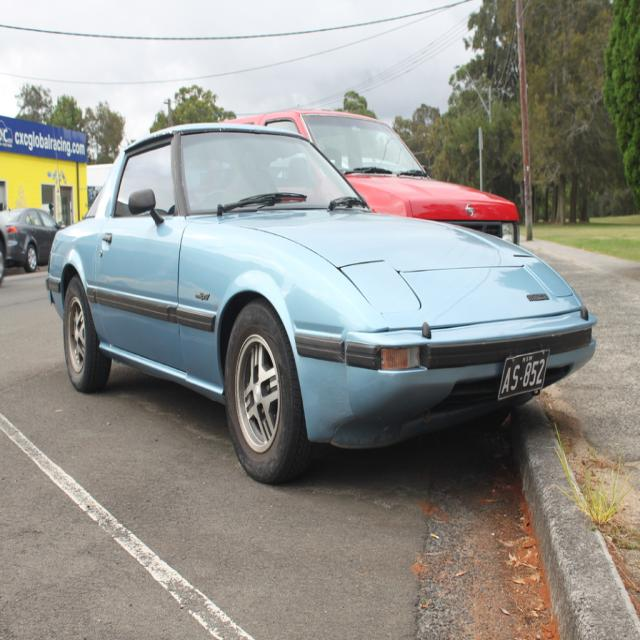car: (44, 124, 584, 484)
